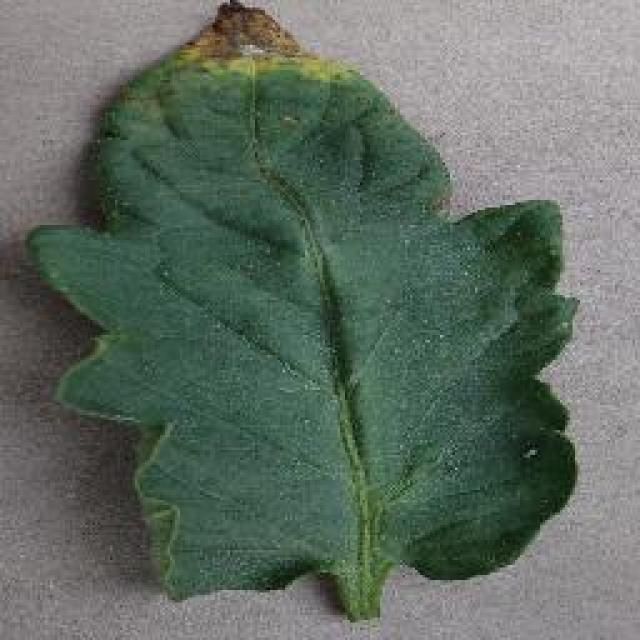Tomato___Bacterial_spot: (22, 0, 580, 627)
